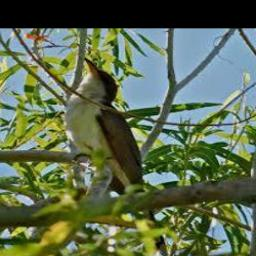Cuckoo: (65, 58, 169, 256)
